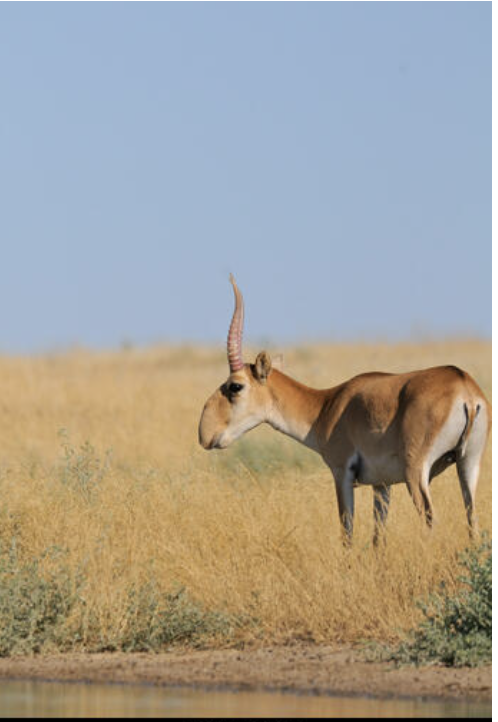saiga: (190, 272, 498, 547)
